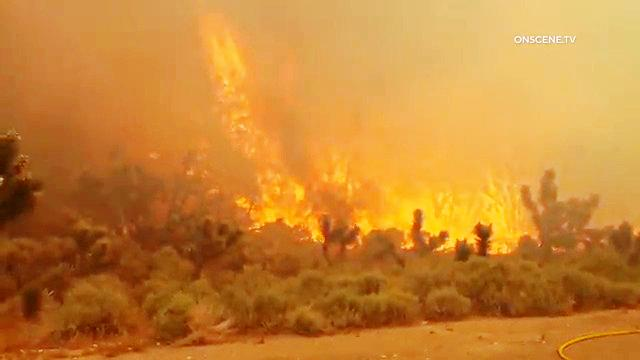fire: (263, 157, 543, 256), (192, 24, 276, 155)
